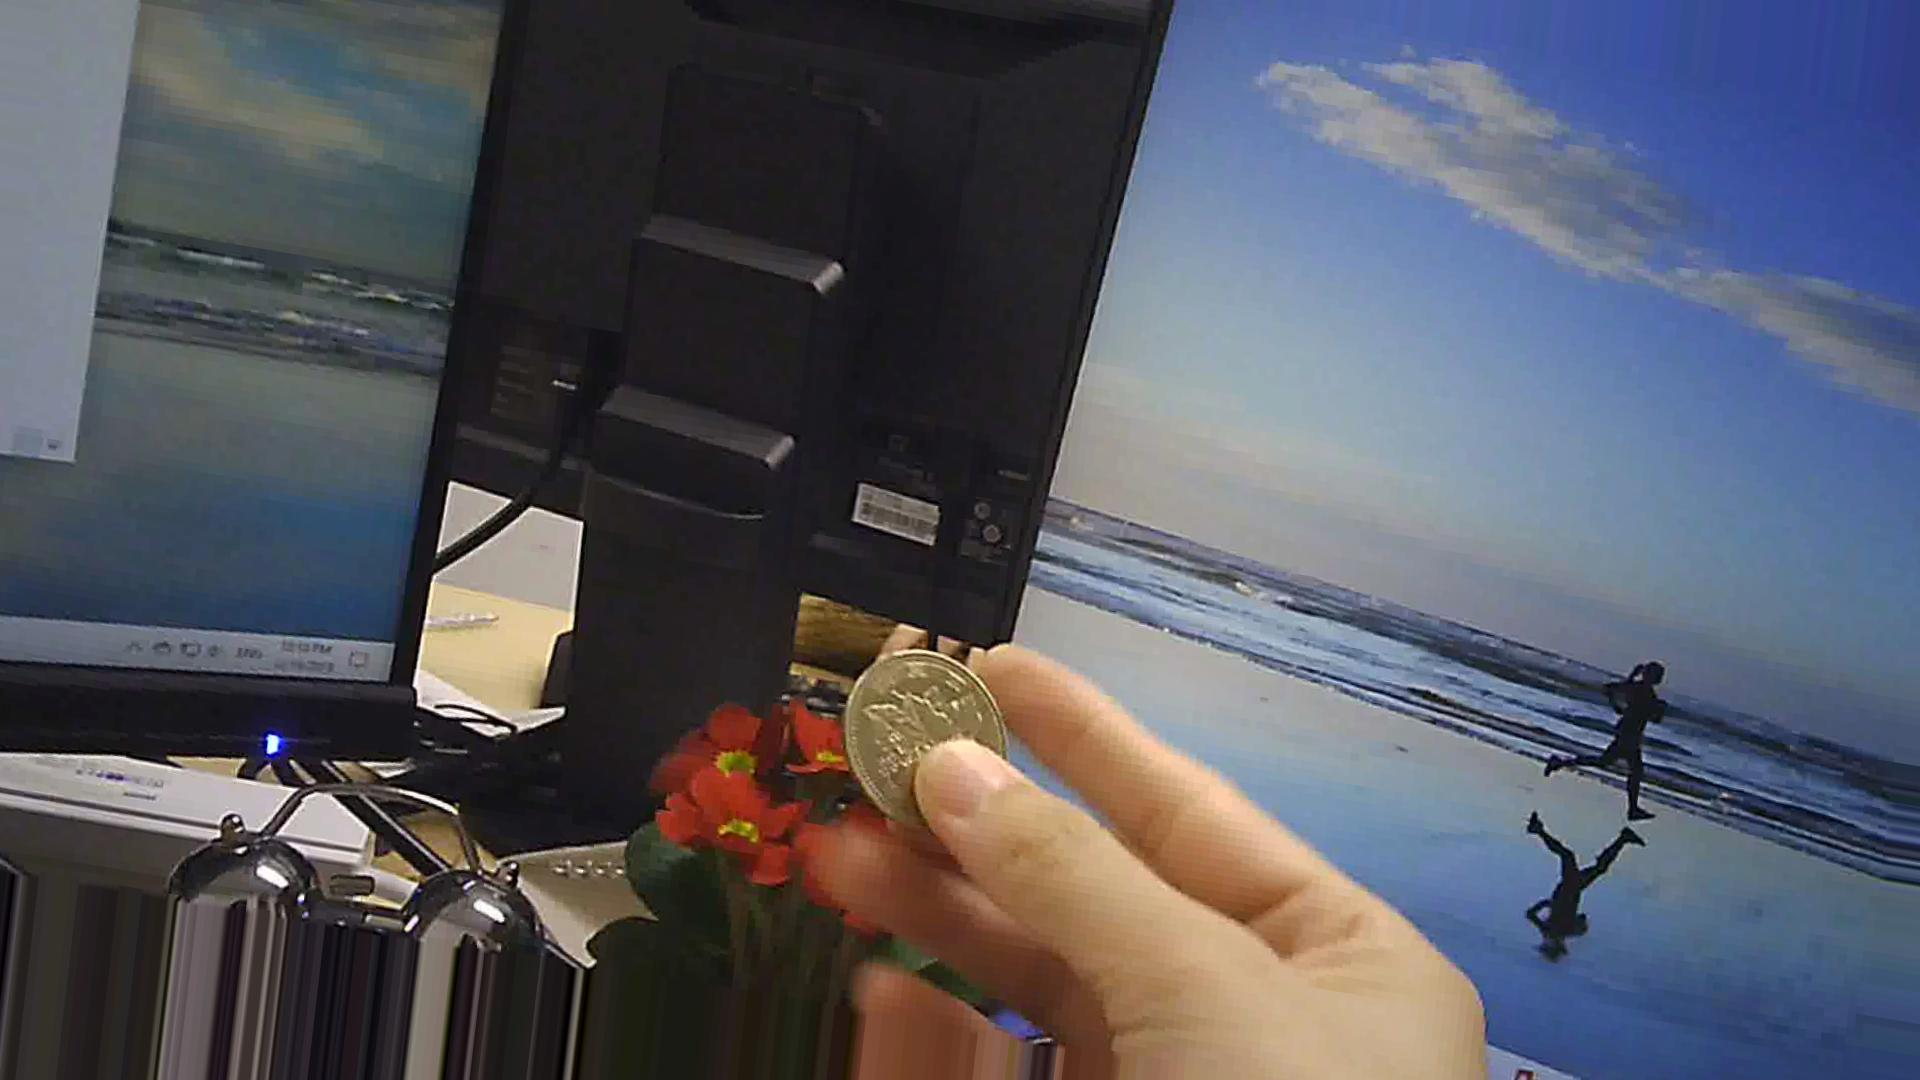500 Yen: (845, 632, 1009, 855)
